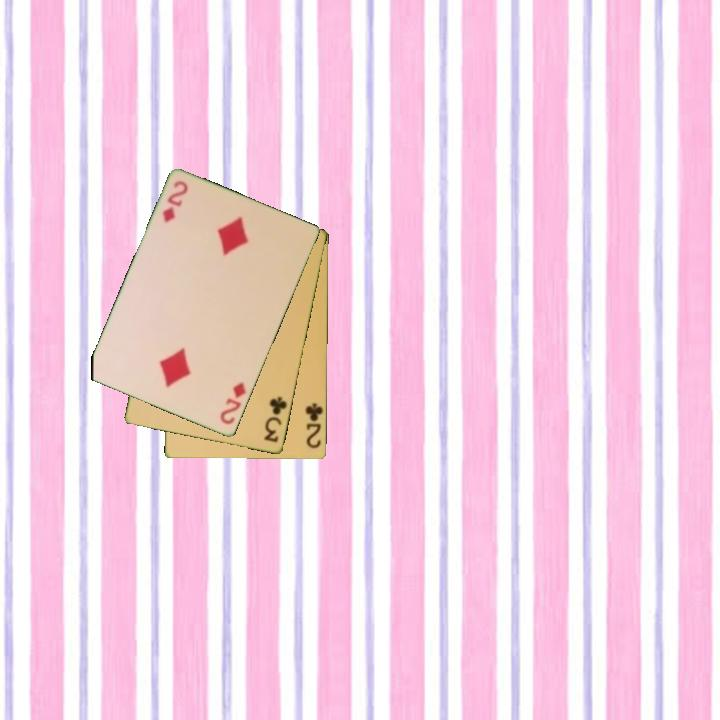2c: (302, 400, 325, 451)
2d: (217, 379, 249, 428), (159, 178, 191, 226)
3c: (261, 393, 290, 445)
